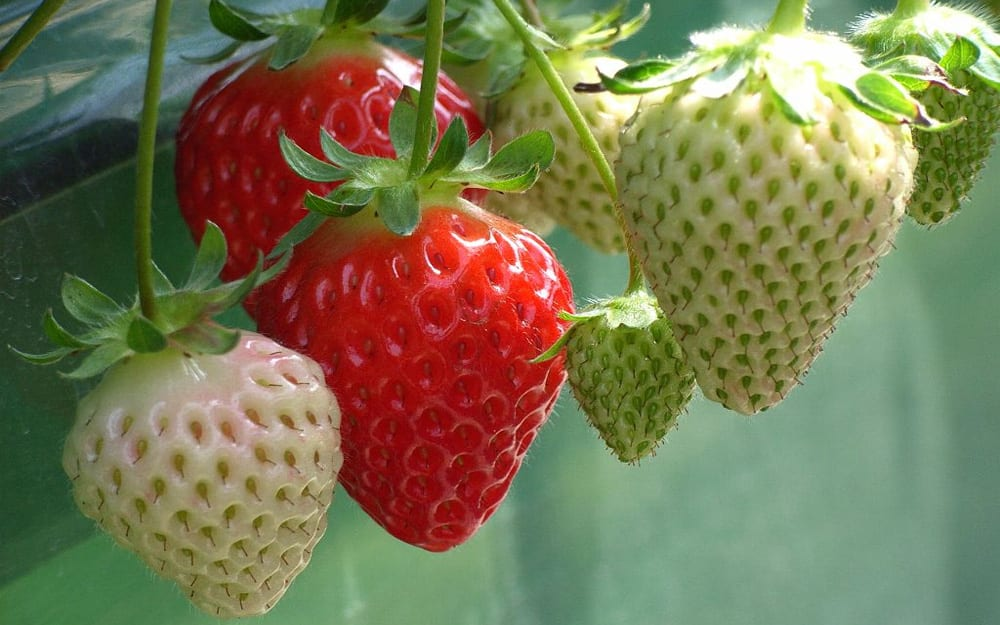ripe_strawberry: (253, 187, 580, 555), (172, 31, 491, 335)
unripe_strawberry: (612, 24, 924, 422), (61, 324, 349, 621), (489, 51, 644, 258), (564, 295, 700, 468), (904, 54, 1000, 229)
